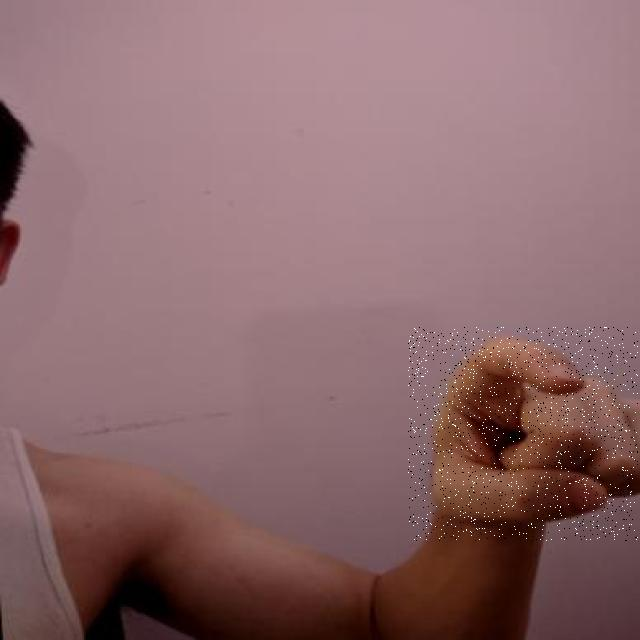Z: (408, 327, 638, 541)
